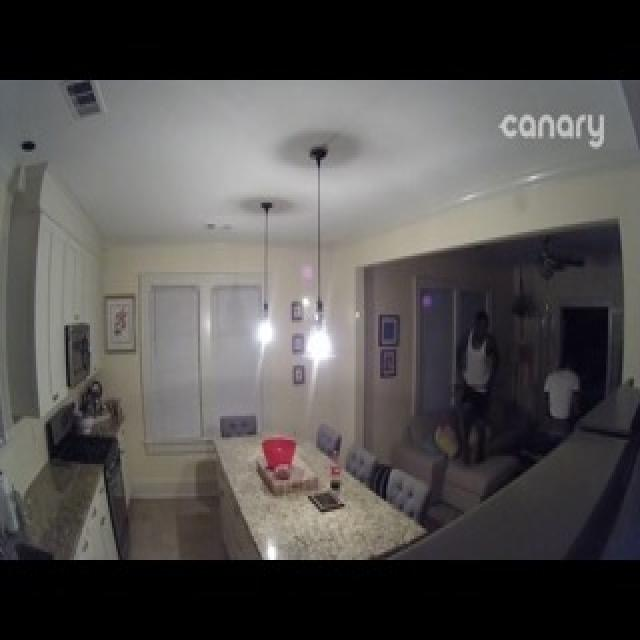thief: (447, 301, 491, 444), (527, 354, 576, 449)
